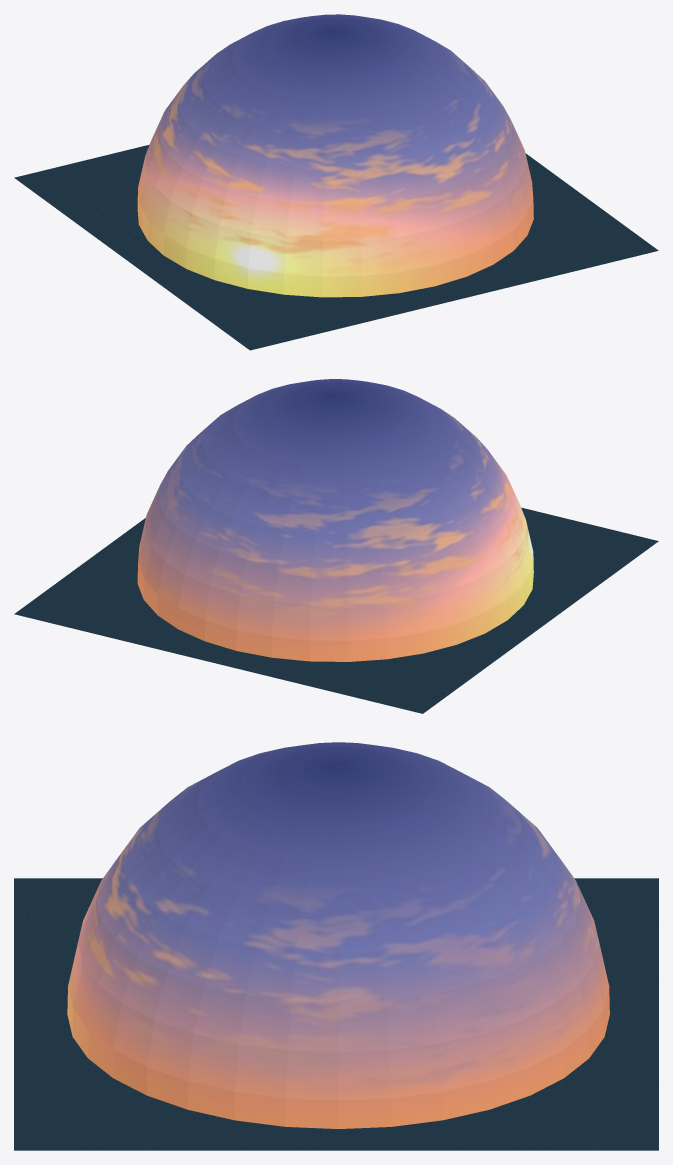
The model's file is lugar-portaaviones.glb.
3 renders of one model, top to bottom at view 1: azimuth 30°, elevation 25°; view 2: azimuth 150°, elevation 25°; view 3: azimuth 270°, elevation 25°, orthographic. The views are drawn at different scales.
Visible parts, largest first — view 1: planoC, plano-agua; view 2: planoC, plano-agua; view 3: planoC, plano-agua.
Boxes of the visible parts, x1,y1,x2,y2 form: planoC: (137, 14, 533, 297); plano-agua: (14, 144, 658, 350); planoC: (137, 379, 533, 661); plano-agua: (14, 507, 658, 713); planoC: (67, 742, 609, 1128); plano-agua: (14, 878, 658, 1150).
Size of the model in its own units: 18000 by 8130 by 18000.
42 materials, 31 textured.
